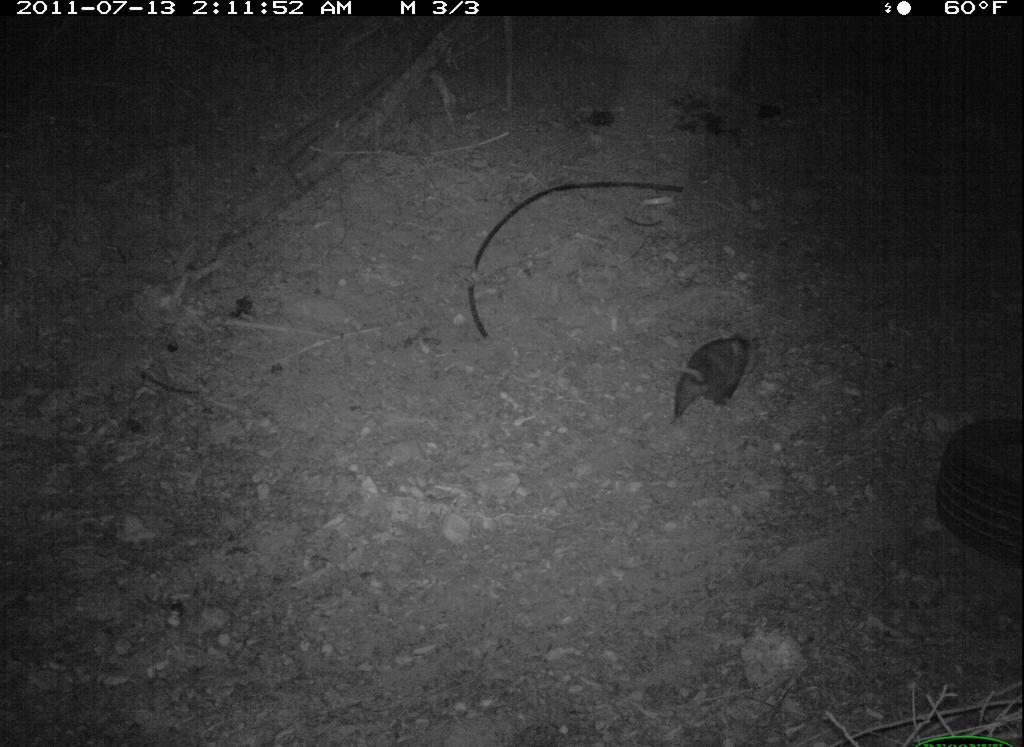opossum: (664, 326, 766, 431)
